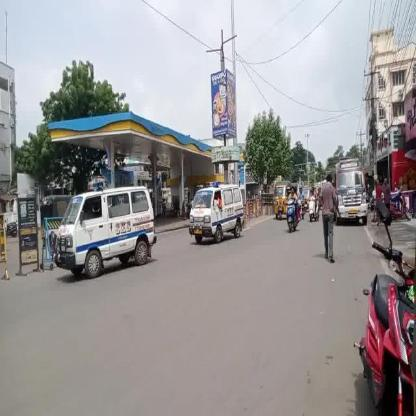priority: (46, 169, 166, 284), (185, 180, 249, 272), (333, 152, 369, 244)
